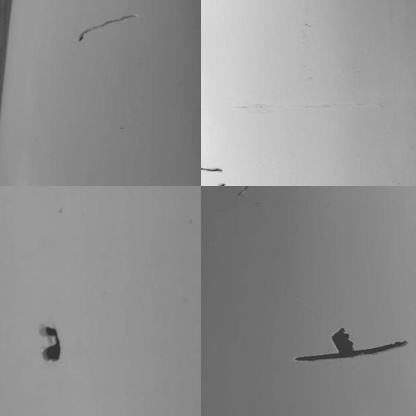fengxi: (297, 343, 411, 363), (73, 13, 138, 43), (197, 164, 228, 173)
kongdong: (37, 323, 62, 362), (330, 325, 352, 352)
